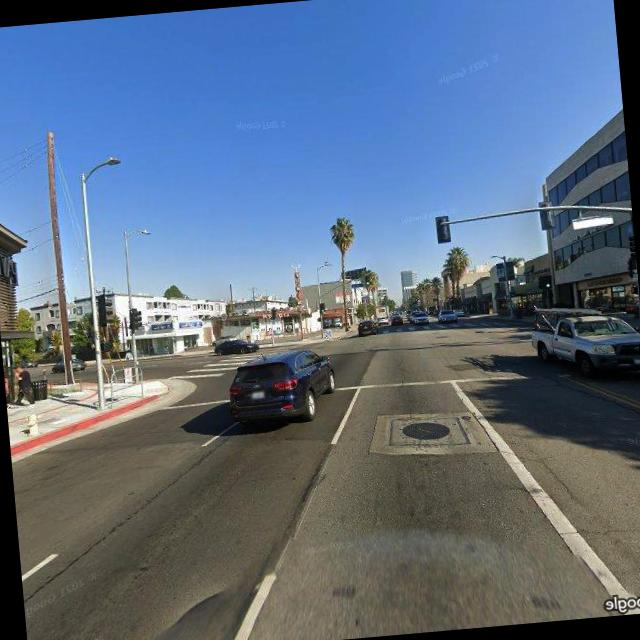crack: (569, 516, 640, 546)
